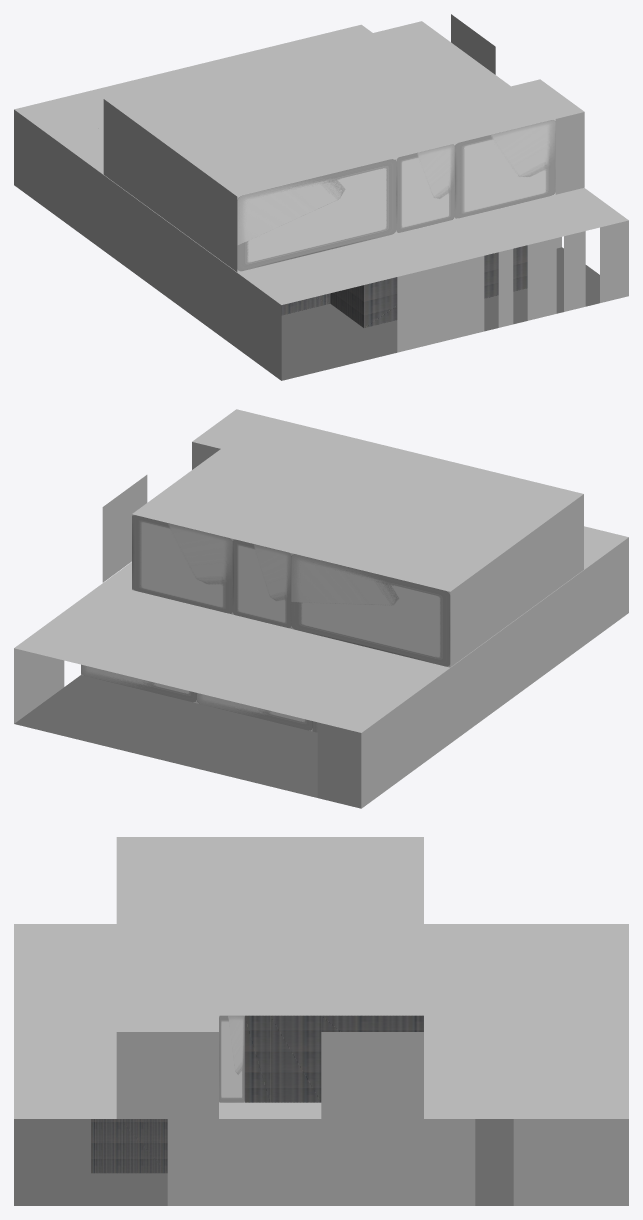
Rendered from casaLeo.obj.
3 views of the same model, one above another, from view 1: azimuth 30°, elevation 25°; view 2: azimuth 150°, elevation 25°; view 3: azimuth 270°, elevation 25° (orthographic). The views are drawn at different scales.
Parts seen in each view (by area): view 1: 2plantatecho_Plano.016, 1planta_Plano, 1plantaTecho_Plano.017, 2planta_Plano.001, Plano.003, 1plantaPiso_Plano.015, Plano.005, Plano.004, 1planta.001_Plano.010, 1planta.004_Plano.013, 1planta.003_Plano.012; view 2: 2plantatecho_Plano.016, 1plantaTecho_Plano.017, 1planta_Plano, 1plantaPiso_Plano.015, 2planta_Plano.001, Plano.008, Plano.006, Plano.007, 1planta.006_Plano.018, 1planta.005_Plano.002; view 3: 1plantaTecho_Plano.017, 2plantatecho_Plano.016, 1planta_Plano, 2planta_Plano.001, 1plantaPiso_Plano.015, 2plantatextura_Plano.014, 1planta.002_Plano.011, Plano.009.
Part boxes in pixels (bbox=[...]): 2plantatecho_Plano.016: bbox=[104, 21, 584, 196]; 1planta_Plano: bbox=[14, 109, 628, 380]; 1plantaTecho_Plano.017: bbox=[14, 24, 628, 304]; 2planta_Plano.001: bbox=[103, 14, 584, 271]; Plano.003: bbox=[237, 158, 396, 272]; 1plantaPiso_Plano.015: bbox=[281, 247, 599, 380]; Plano.005: bbox=[454, 119, 555, 219]; Plano.004: bbox=[396, 143, 454, 233]; 1planta.001_Plano.010: bbox=[364, 245, 527, 327]; 1planta.004_Plano.013: bbox=[330, 285, 363, 327]; 1planta.003_Plano.012: bbox=[281, 293, 330, 315]; 2plantatecho_Plano.016: bbox=[132, 409, 583, 591]; 1plantaTecho_Plano.017: bbox=[14, 526, 628, 732]; 1planta_Plano: bbox=[14, 537, 628, 808]; 1plantaPiso_Plano.015: bbox=[14, 675, 317, 797]; 2planta_Plano.001: bbox=[102, 442, 583, 667]; Plano.008: bbox=[291, 553, 450, 667]; Plano.006: bbox=[132, 514, 232, 614]; Plano.007: bbox=[232, 539, 290, 628]; 1planta.006_Plano.018: bbox=[196, 693, 312, 731]; 1planta.005_Plano.002: bbox=[81, 664, 196, 703]; 1plantaTecho_Plano.017: bbox=[14, 924, 628, 1118]; 2plantatecho_Plano.016: bbox=[116, 837, 423, 1031]; 1planta_Plano: bbox=[167, 1119, 628, 1205]; 2planta_Plano.001: bbox=[116, 1032, 423, 1118]; 1plantaPiso_Plano.015: bbox=[14, 1119, 513, 1205]; 2plantatextura_Plano.014: bbox=[244, 1015, 423, 1102]; 1planta.002_Plano.011: bbox=[91, 1119, 167, 1173]; Plano.009: bbox=[219, 1015, 244, 1102].
Size of the model in its own units: 12.01 by 5 by 16.
